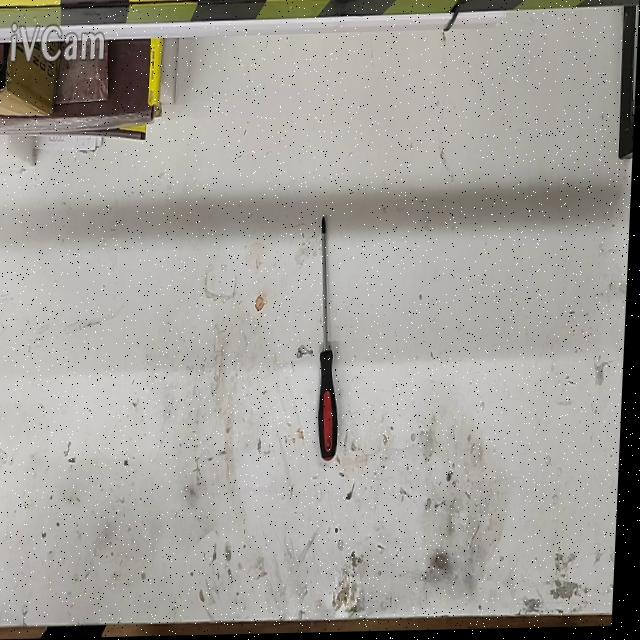Screwdriver: (322, 219, 342, 463)
